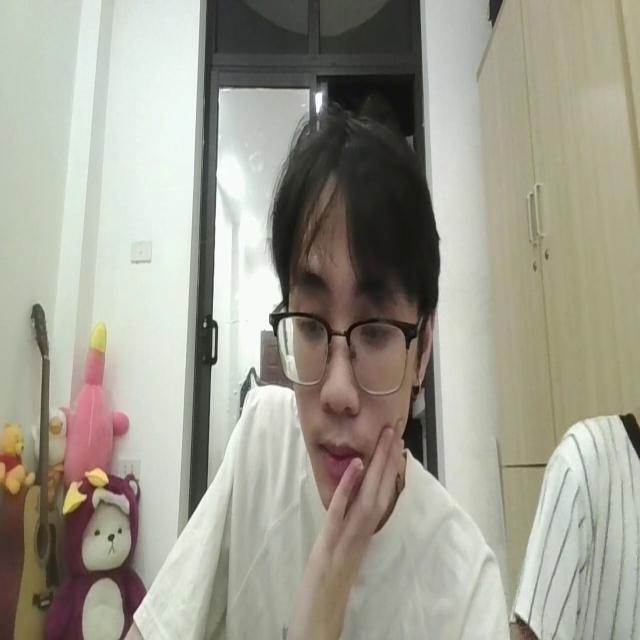extra_person: (518, 397, 640, 640)
student: (131, 99, 513, 640)
